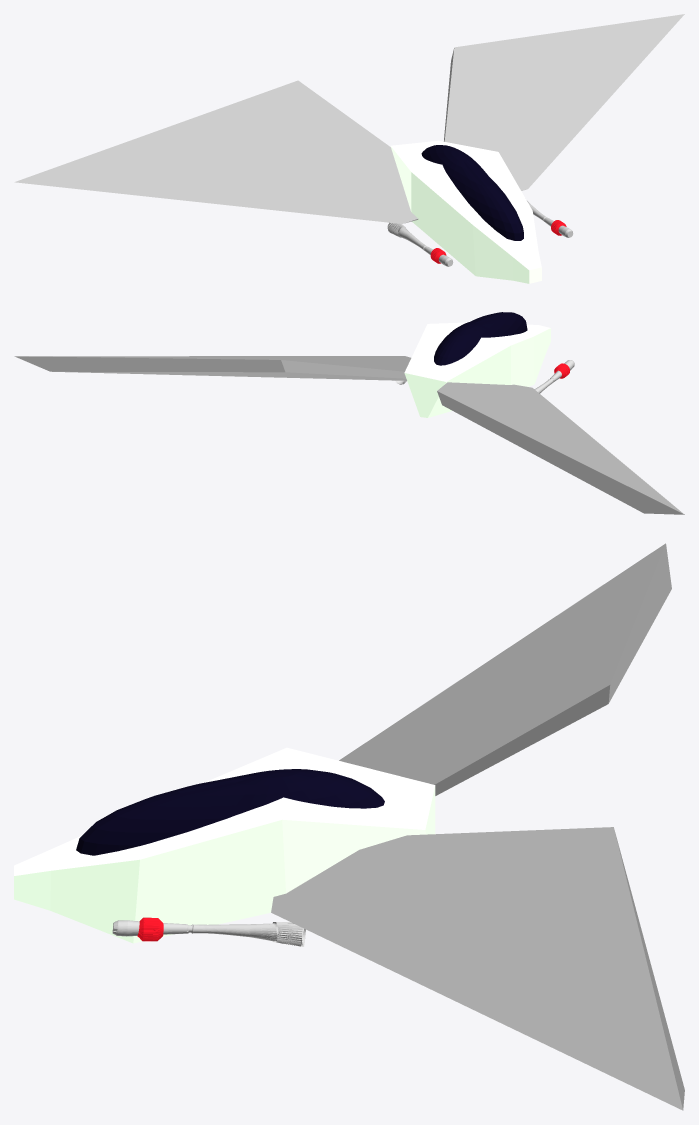
File: ship2.fbx
3 renders of one model, top to bottom at view 1: azimuth 30°, elevation 25°; view 2: azimuth 150°, elevation 25°; view 3: azimuth 270°, elevation 25°, orthographic. The views are drawn at different scales.
Parts seen in each view (by area): view 1: Cube, Base, cockpit, Weapon_left; view 2: Cube, Base, cockpit; view 3: Cube, Base, cockpit, Weapon.
Boxes of the visible parts, bbox=[...] form: Cube: bbox=[14, 14, 684, 223]; Base: bbox=[390, 140, 541, 283]; cockpit: bbox=[421, 145, 523, 240]; Weapon_left: bbox=[387, 222, 453, 266]; Cube: bbox=[14, 356, 684, 514]; Base: bbox=[404, 322, 550, 417]; cockpit: bbox=[434, 312, 527, 365]; Cube: bbox=[271, 543, 684, 1110]; Base: bbox=[14, 747, 435, 943]; cockpit: bbox=[76, 769, 384, 855]; Weapon: bbox=[112, 920, 305, 946].
Size of the model in its own units: 1023 by 151 by 512.
